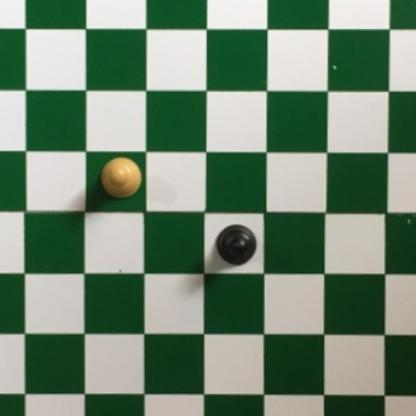black-pawn: (214, 222, 259, 267)
white-pawn: (97, 157, 144, 202)
